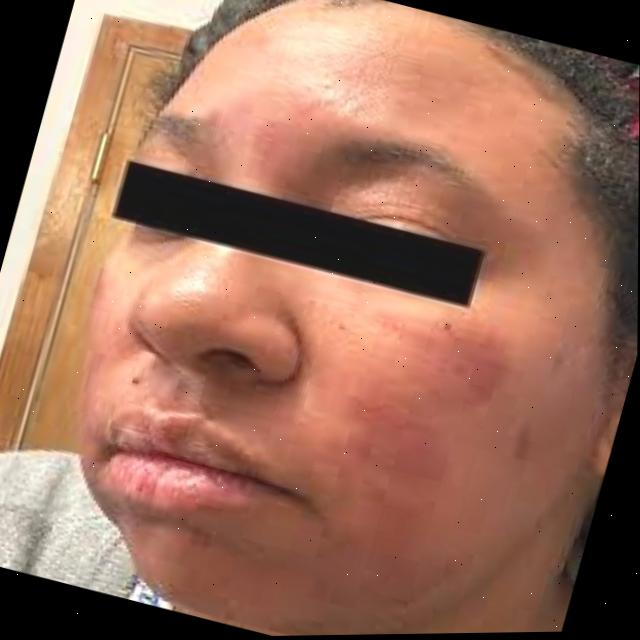Rosacea: (273, 286, 517, 591), (59, 258, 167, 443), (202, 73, 328, 170)
